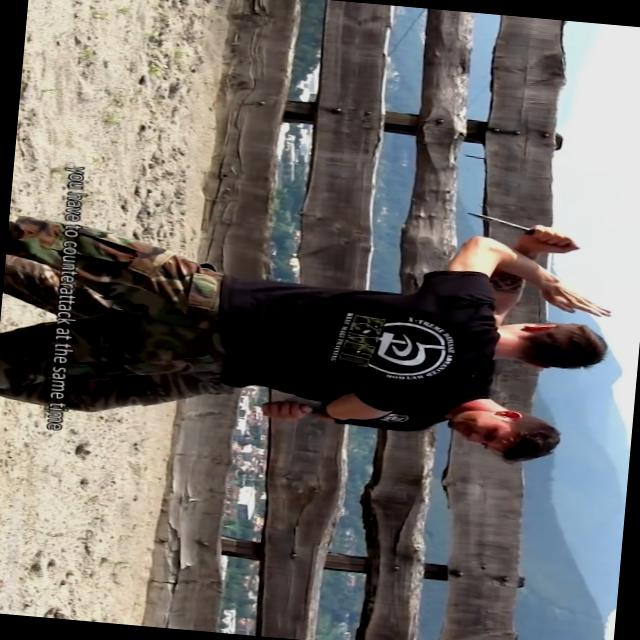knife: (458, 204, 584, 252)
